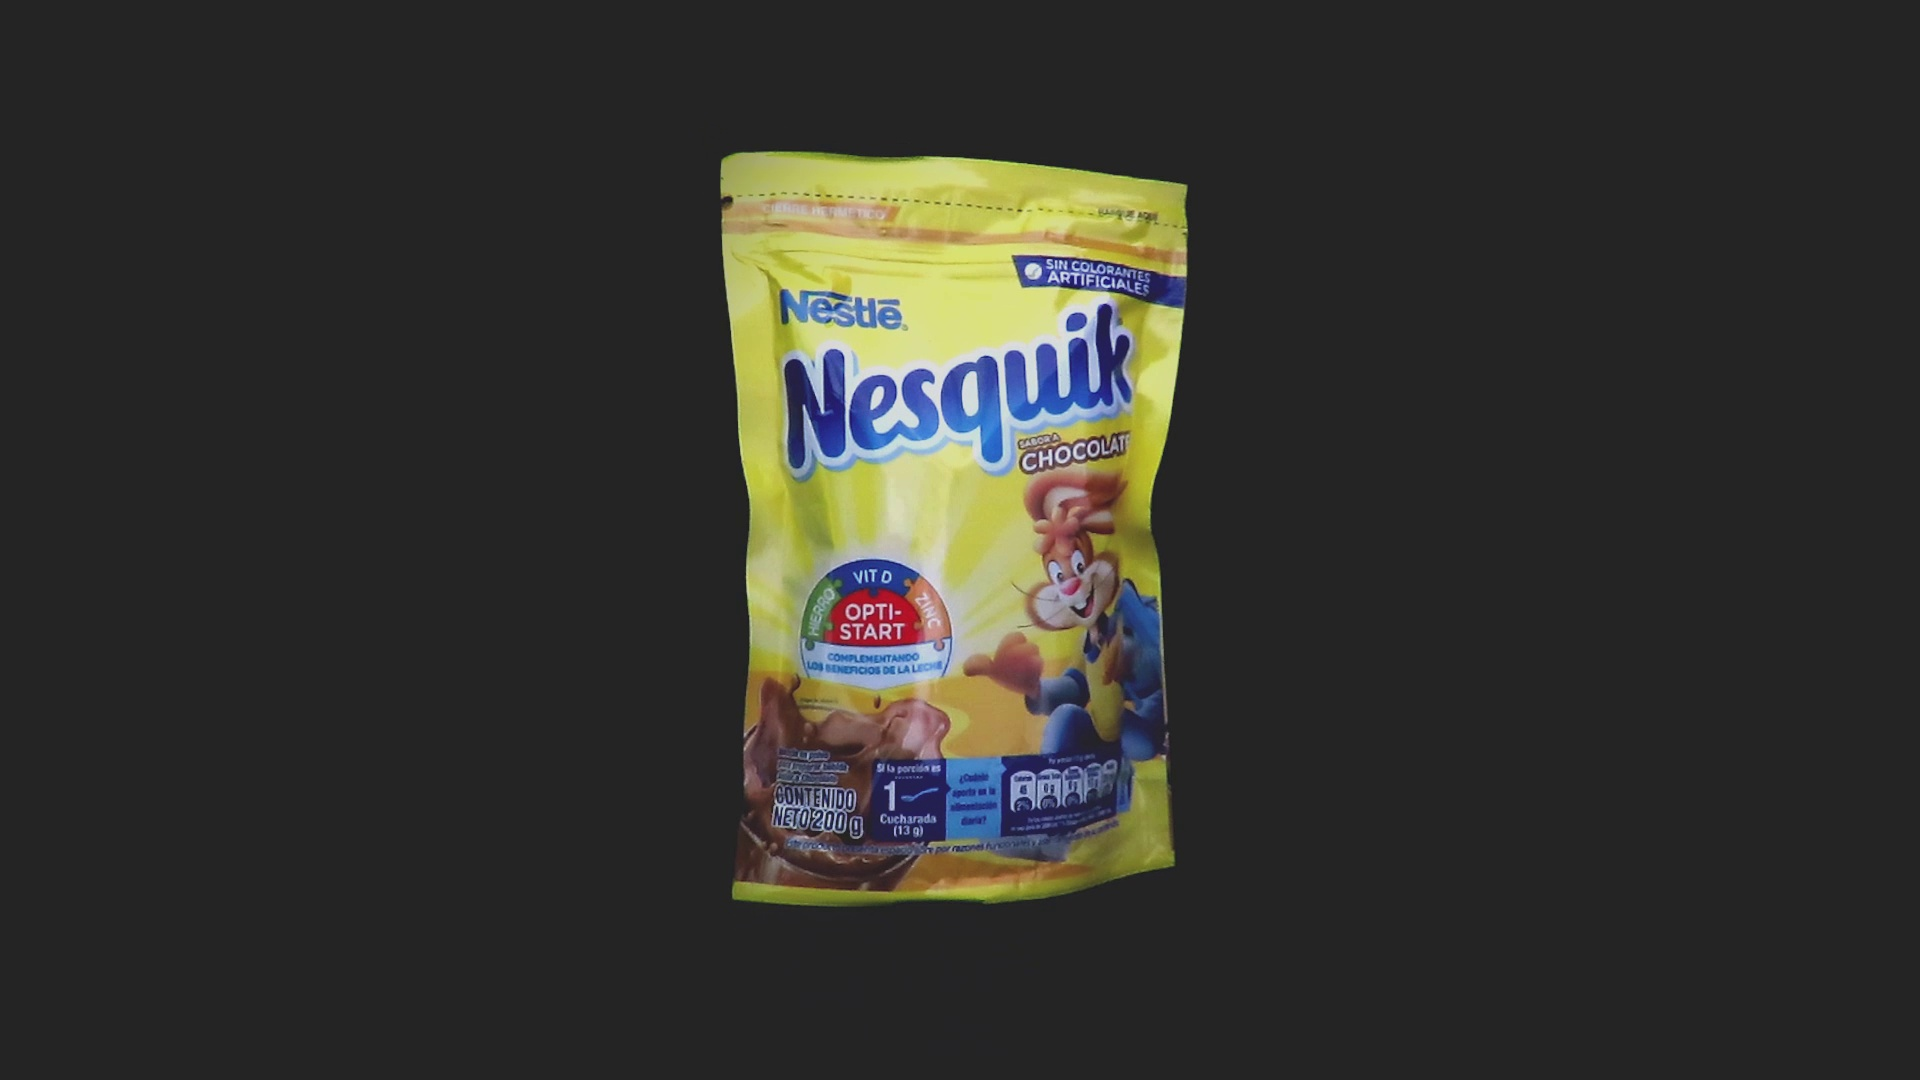COL0170303DYP20000: (715, 146, 1195, 913)
